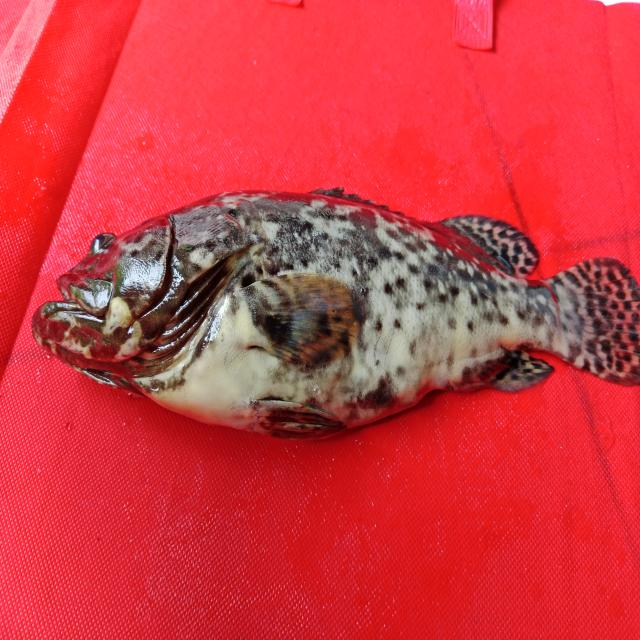ikan: (23, 156, 620, 459)
